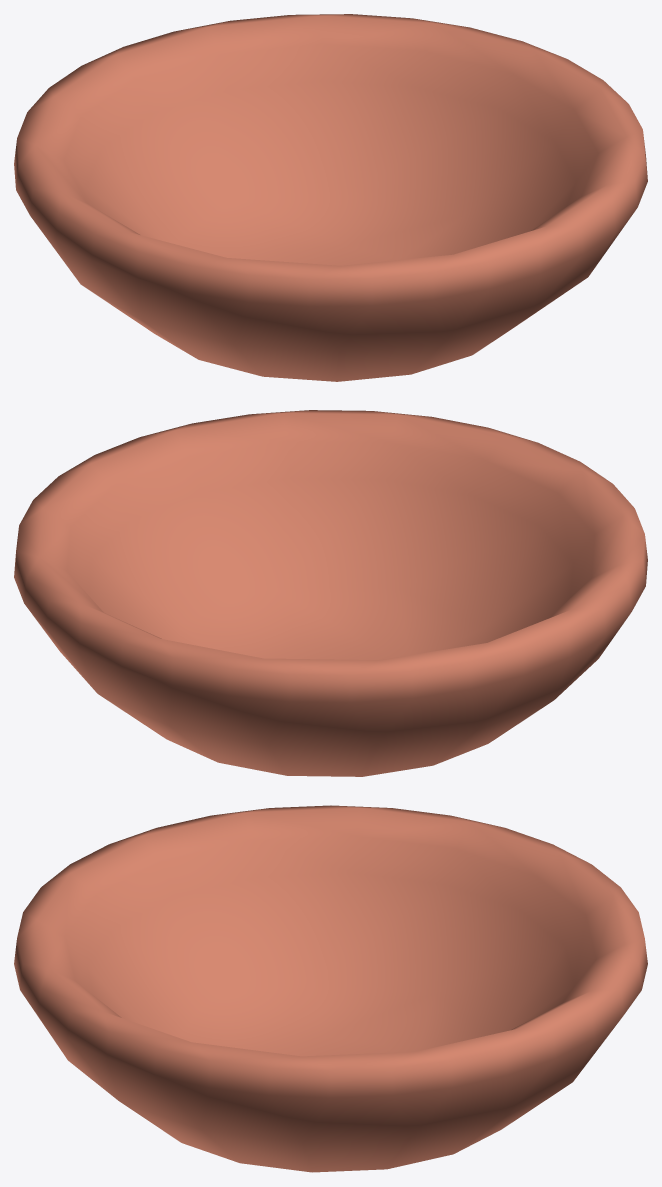
The model's file is ClayDish_02 1.fbx.
3 views of the same model, one above another, from view 1: azimuth 30°, elevation 25°; view 2: azimuth 150°, elevation 25°; view 3: azimuth 270°, elevation 25° (orthographic).
Parts seen in each view (by area): view 1: ClayDish_02; view 2: ClayDish_02; view 3: ClayDish_02.
Part boxes in pixels (x1,y1,x2,y2): ClayDish_02: (14,14,647,381); ClayDish_02: (14,410,647,776); ClayDish_02: (14,805,647,1172).
Size of the model in its own units: 25.7 by 7.92 by 25.7.
